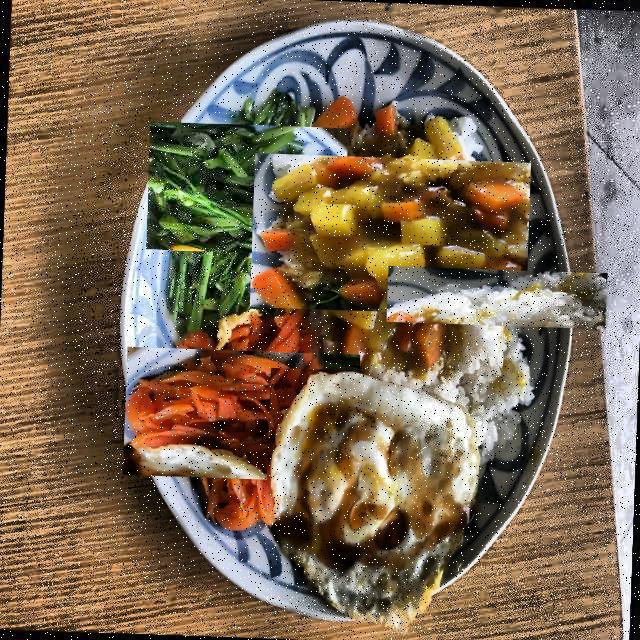Food: (261, 368, 484, 636), (279, 123, 502, 346), (147, 321, 334, 508), (162, 104, 330, 274), (425, 225, 568, 368)
